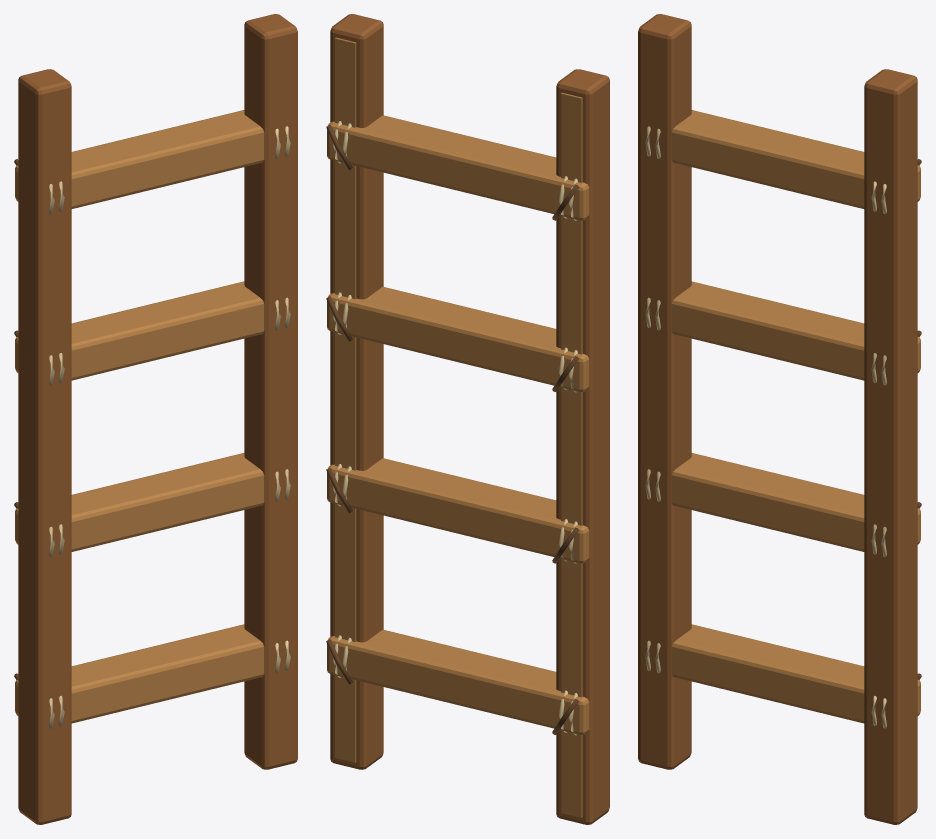
The model's file is Ladder.fbx.
The picture shows the model from 3 angles, left to right: view 1: azimuth 30°, elevation 25°; view 2: azimuth 150°, elevation 25°; view 3: azimuth 330°, elevation 25°; orthographic projection.
Visible parts, largest first — view 1: Ladder_Mesh; view 2: Ladder_Mesh; view 3: Ladder_Mesh.
Boxes of the visible parts, box(x1,y1,x2,y2) form: Ladder_Mesh: box(14, 14, 297, 824); Ladder_Mesh: box(326, 14, 609, 824); Ladder_Mesh: box(638, 14, 921, 824).
Bounding box in the file's own units: 0.8 × 2.15 × 0.1772.
